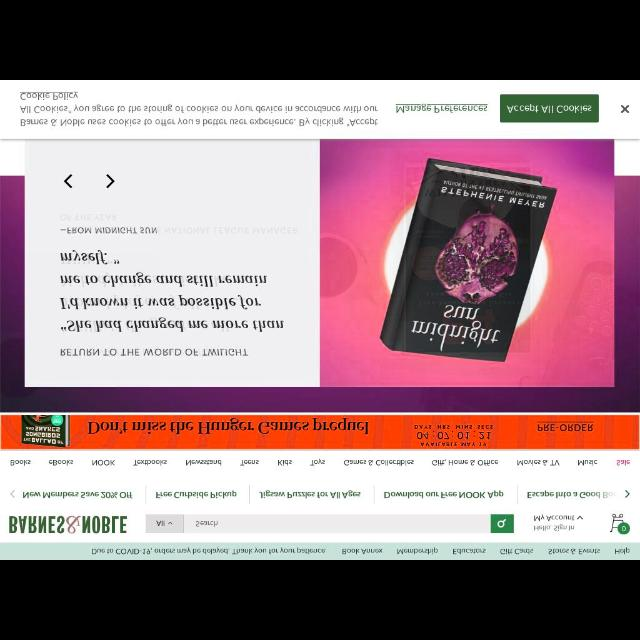icon: (610, 512, 628, 532), (104, 174, 116, 188), (64, 174, 74, 188), (498, 518, 508, 528), (621, 104, 629, 114), (626, 490, 630, 500), (10, 488, 14, 498), (578, 516, 582, 520), (168, 522, 174, 524)
image: (1, 140, 615, 410), (1, 415, 639, 449), (10, 514, 128, 536)
input: (186, 514, 492, 532)
multitab: (1, 544, 639, 558)
spinner: (534, 512, 582, 532), (145, 517, 183, 533)
text: (62, 252, 284, 332), (20, 90, 378, 128), (61, 212, 297, 234), (92, 545, 326, 555), (58, 348, 250, 356), (258, 487, 362, 499), (382, 489, 504, 498), (528, 488, 618, 499), (23, 489, 133, 498), (395, 105, 487, 113), (432, 456, 500, 466), (534, 514, 576, 530), (155, 490, 237, 498), (346, 458, 414, 466), (508, 106, 592, 112), (342, 546, 384, 556), (398, 546, 438, 556), (501, 546, 534, 556), (187, 458, 223, 467), (548, 548, 600, 554), (452, 547, 486, 555), (133, 458, 167, 466), (516, 460, 560, 466), (90, 457, 116, 467), (576, 457, 598, 467), (8, 458, 32, 466), (50, 458, 74, 466), (308, 458, 326, 468), (196, 519, 218, 527), (241, 458, 259, 467), (614, 546, 628, 556), (278, 458, 292, 466), (616, 458, 630, 466), (157, 520, 165, 526)
textbutton: (500, 96, 598, 122)
toolbar: (1, 451, 639, 541)
